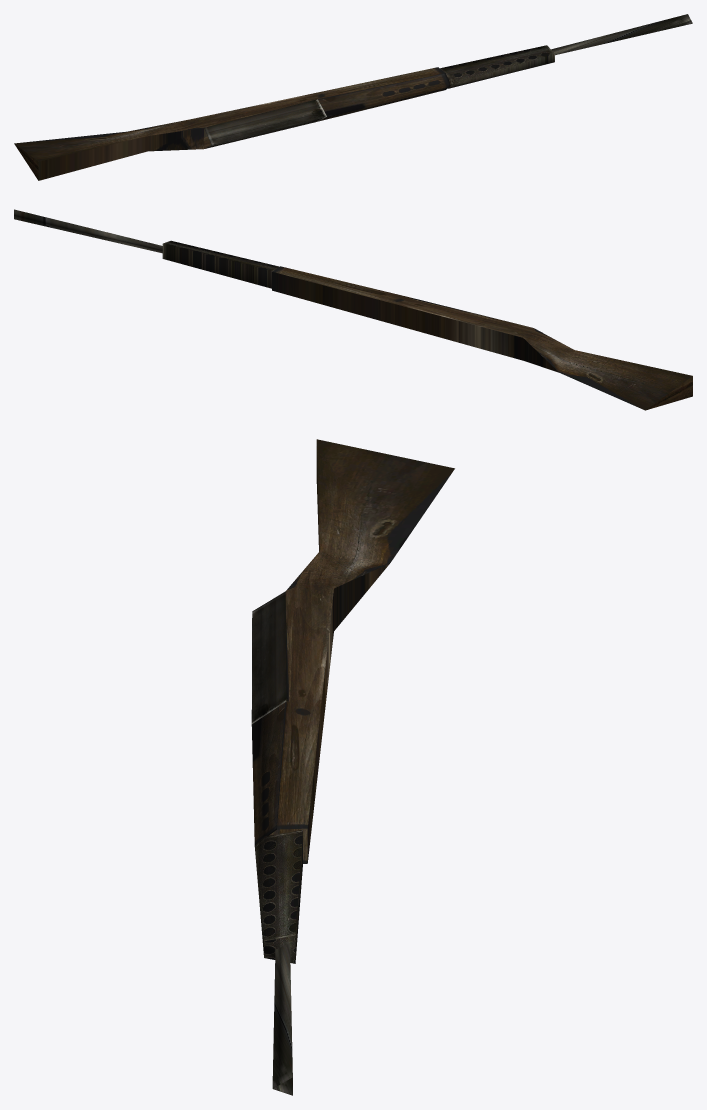
The model's file is weapon_rus_svt40_rifle_LOD31.obj.
3 views of the same model, one above another, from view 1: azimuth 30°, elevation 25°; view 2: azimuth 150°, elevation 25°; view 3: azimuth 270°, elevation 25° (orthographic). The views are drawn at different scales.
Visible parts, largest first — view 1: TomGroup_1, TomGroup_0; view 2: TomGroup_1, TomGroup_0; view 3: TomGroup_1, TomGroup_0.
Boxes of the visible parts, left/top/right/bottom form: TomGroup_1: left=14, top=67, right=450, bottom=180; TomGroup_0: left=204, top=14, right=692, bottom=148; TomGroup_1: left=272, top=266, right=692, bottom=410; TomGroup_0: left=14, top=209, right=542, bottom=332; TomGroup_1: left=251, top=439, right=454, bottom=963; TomGroup_0: left=251, top=591, right=302, bottom=1095.
Size of the model in its own units: 130 by 4.31 by 17.74.
2 materials, 2 textured.
